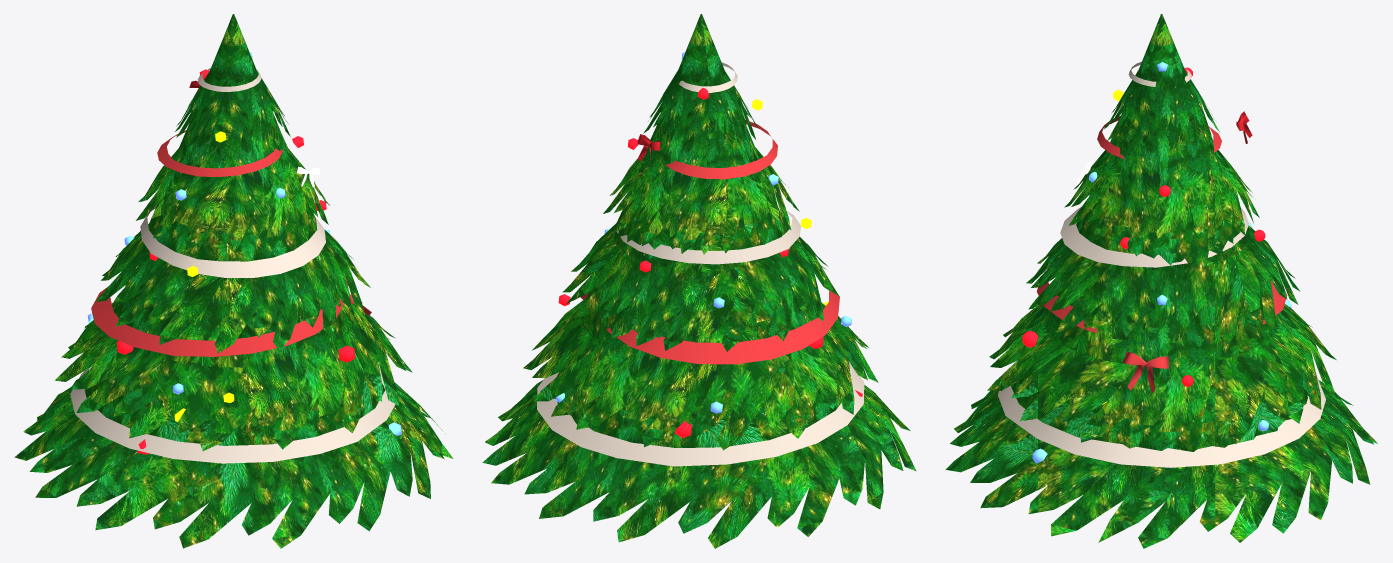
3 renders of one model, left to right at view 1: azimuth 30°, elevation 25°; view 2: azimuth 150°, elevation 25°; view 3: azimuth 270°, elevation 25°, orthographic.
Visible parts, largest first — view 1: Cone, Cylinder.005, Cylinder.004, Icosphere.030, Icosphere.032; view 2: Cone, Cylinder.005, Cylinder.004, Icosphere.030, Icosphere.032; view 3: Cone, Cylinder.005, Cylinder.004, Icosphere.030, Icosphere.032.
Boxes of the visible parts, bbox=[...] form: Cone: bbox=[14, 14, 453, 548]; Cylinder.005: bbox=[70, 68, 395, 463]; Cylinder.004: bbox=[91, 130, 371, 356]; Icosphere.030: bbox=[116, 69, 355, 454]; Icosphere.032: bbox=[87, 52, 401, 435]; Cone: bbox=[482, 14, 916, 548]; Cylinder.005: bbox=[537, 62, 864, 466]; Cylinder.004: bbox=[580, 120, 839, 364]; Icosphere.030: bbox=[558, 88, 862, 437]; Icosphere.032: bbox=[555, 52, 851, 413]; Cone: bbox=[945, 14, 1377, 548]; Cylinder.005: bbox=[998, 61, 1325, 467]; Cylinder.004: bbox=[1036, 116, 1287, 392]; Icosphere.030: bbox=[1022, 67, 1265, 386]; Icosphere.032: bbox=[1032, 62, 1291, 463].
Bounding box in the file's own units: 57571 × 64447 × 57209.
Materials: 10 (2 with a texture image).
